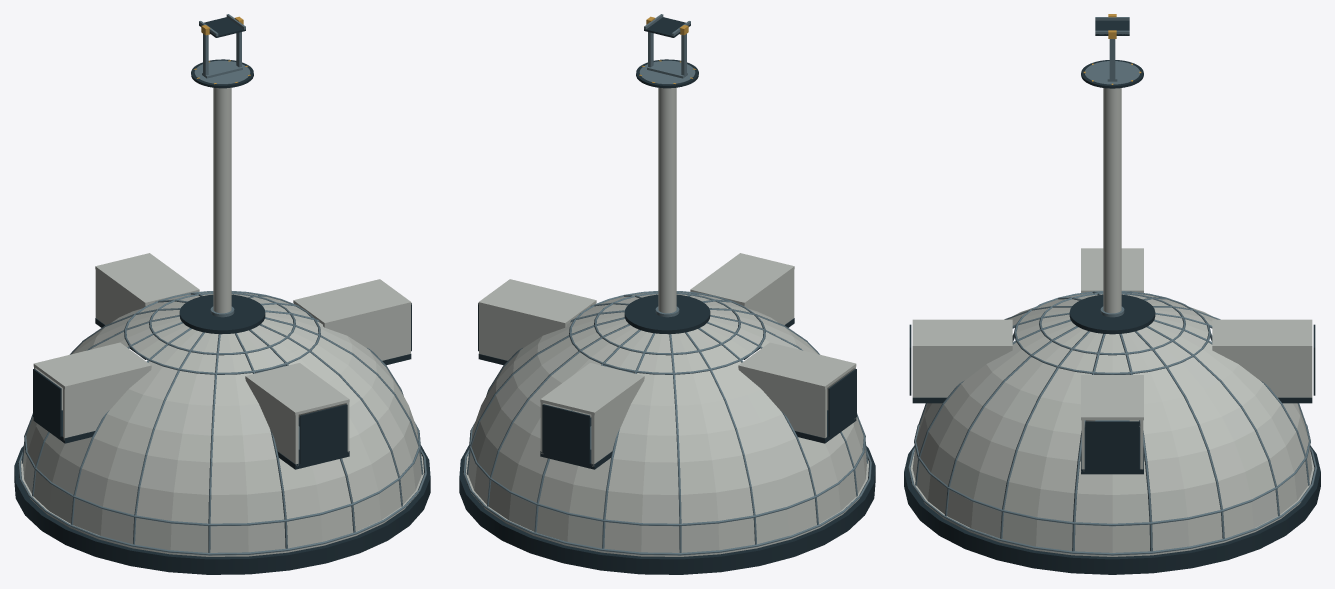
Rendered from fabrication_d0_lod1.glb.
The picture shows the model from 3 angles, left to right: view 1: azimuth 30°, elevation 25°; view 2: azimuth 150°, elevation 25°; view 3: azimuth 270°, elevation 25°; orthographic projection.
Visible parts, largest first — view 1: SHELL, BODY, PORT_CAP_N, PORT_CAP_W, FORK, CRADLE; view 2: SHELL, BODY, PORT_CAP_S, PORT_CAP_W, FORK, CRADLE; view 3: SHELL, BODY, PORT_CAP_E, CRADLE.
Part boxes in pixels (left/top/right/bottom): SHELL: left=23, top=292, right=421, bottom=552; BODY: left=14, top=59, right=430, bottom=574; PORT_CAP_N: left=299, top=404, right=347, bottom=463; PORT_CAP_W: left=33, top=369, right=61, bottom=436; FORK: left=201, top=16, right=243, bottom=78; CRADLE: left=199, top=14, right=245, bottom=37; SHELL: left=468, top=292, right=866, bottom=552; BODY: left=459, top=59, right=875, bottom=574; PORT_CAP_S: left=542, top=404, right=590, bottom=463; PORT_CAP_W: left=828, top=369, right=856, bottom=436; FORK: left=646, top=16, right=688, bottom=78; CRADLE: left=644, top=14, right=690, bottom=37; SHELL: left=912, top=293, right=1312, bottom=552; BODY: left=904, top=60, right=1320, bottom=574; PORT_CAP_E: left=1085, top=421, right=1139, bottom=469; CRADLE: left=1095, top=17, right=1129, bottom=35.
Size of the model in its own units: 29.2 by 35.85 by 29.2.
